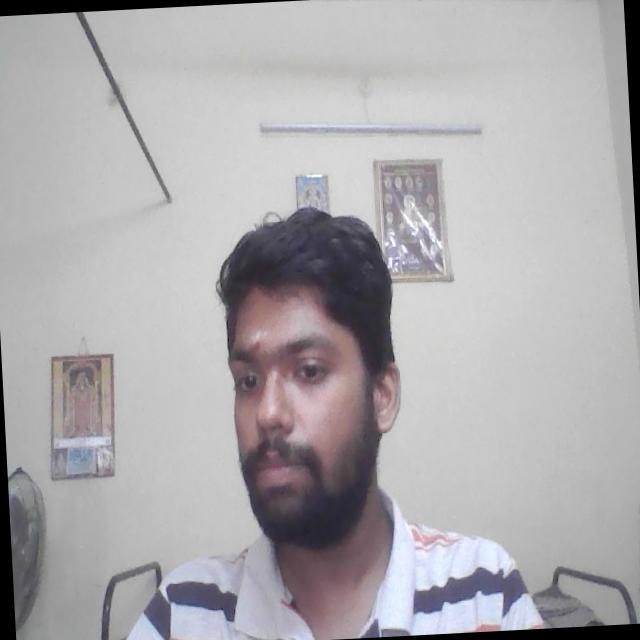Focused: (220, 296, 394, 510)
